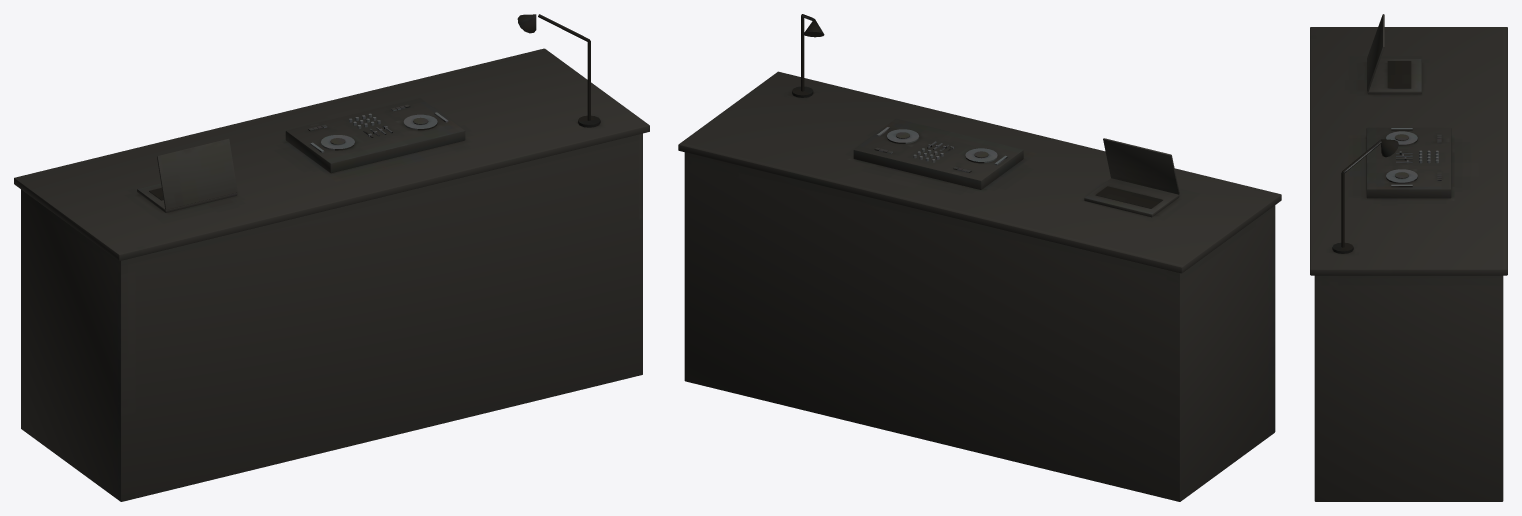
Rendered from dj_booth.glb.
3 renders of one model, left to right at view 1: azimuth 30°, elevation 25°; view 2: azimuth 150°, elevation 25°; view 3: azimuth 270°, elevation 25°, orthographic. The views are drawn at different scales.
Visible parts, largest first — view 1: dj_booth; view 2: dj_booth; view 3: dj_booth.
Boxes of the visible parts, x1=… form: dj_booth: x1=14, y1=14, x2=649, y2=501; dj_booth: x1=678, y1=14, x2=1281, y2=501; dj_booth: x1=1310, y1=14, x2=1507, y2=501.
Bounding box in the file's own units: 2.44 × 1.55 × 0.84.
1 material, 1 textured.
